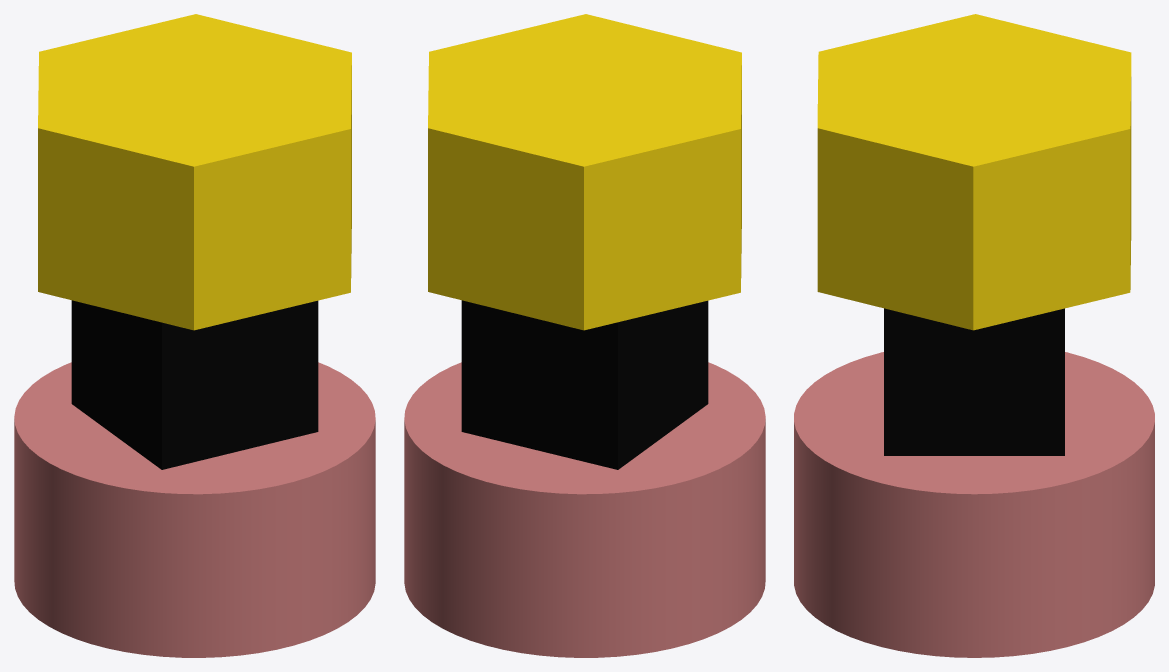
The model's file is RobertDeAngelis.gltf.
The picture shows the model from 3 angles, left to right: view 1: azimuth 30°, elevation 25°; view 2: azimuth 150°, elevation 25°; view 3: azimuth 270°, elevation 25°; orthographic projection.
Parts seen in each view (by area): view 1: mesh14_mesh_2, mesh0_mesh_3, mesh0_mesh_5, mesh0_mesh_2, mesh8_mesh_2, mesh14_mesh, mesh8_mesh_1, mesh14_mesh_1; view 2: mesh14_mesh_1, mesh0_mesh_3, mesh0_mesh_1, mesh0_mesh, mesh8_mesh, mesh14_mesh, mesh8_mesh_1, mesh14_mesh_2; view 3: mesh0_mesh_3, mesh14_mesh_1, mesh14_mesh_2, mesh0_mesh_7, mesh0_mesh_6, mesh8_mesh_3, mesh14_mesh.
Part boxes in pixels (x1,y1,x2,y2): mesh14_mesh_2: (38, 420, 375, 657); mesh0_mesh_3: (38, 14, 351, 166); mesh0_mesh_5: (194, 129, 350, 330); mesh0_mesh_2: (38, 128, 193, 330); mesh8_mesh_2: (162, 300, 318, 469); mesh14_mesh: (14, 362, 375, 494); mesh8_mesh_1: (71, 300, 161, 469); mesh14_mesh_1: (14, 419, 38, 619); mesh14_mesh_1: (404, 420, 741, 657); mesh0_mesh_3: (428, 14, 741, 166); mesh0_mesh_1: (584, 129, 740, 330); mesh0_mesh: (428, 128, 583, 330); mesh8_mesh: (461, 300, 617, 469); mesh14_mesh: (404, 362, 765, 494); mesh8_mesh_1: (618, 300, 708, 469); mesh14_mesh_2: (741, 419, 765, 619); mesh0_mesh_3: (817, 14, 1131, 166); mesh14_mesh_1: (974, 422, 1154, 657); mesh14_mesh_2: (794, 422, 974, 657); mesh0_mesh_7: (973, 129, 1130, 330); mesh0_mesh_6: (817, 128, 973, 330); mesh8_mesh_3: (884, 308, 1064, 455); mesh14_mesh: (794, 352, 1154, 494).
Bounding box in the file's own units: 0.1016 × 0.1524 × 0.1015.
